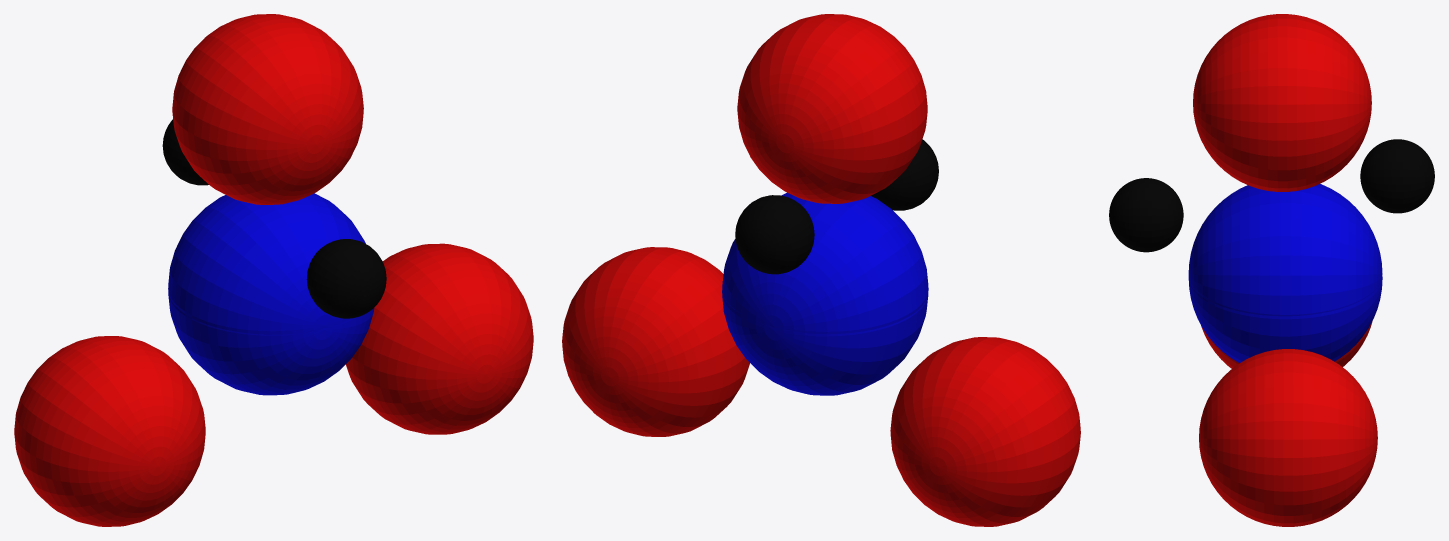
The model's file is Ammonium Nitrate.glb.
3 renders of one model, left to right at view 1: azimuth 30°, elevation 25°; view 2: azimuth 150°, elevation 25°; view 3: azimuth 270°, elevation 25°, orthographic. The views are drawn at different scales.
Parts seen in each view (by area): view 1: world; view 2: world; view 3: world.
Boxes of the visible parts, <box> form: world: <box>14,14,533,526</box>; world: <box>562,14,1080,526</box>; world: <box>1109,14,1434,526</box>.
Bounding box in the file's own units: 3.58 × 3.16 × 2.18.
